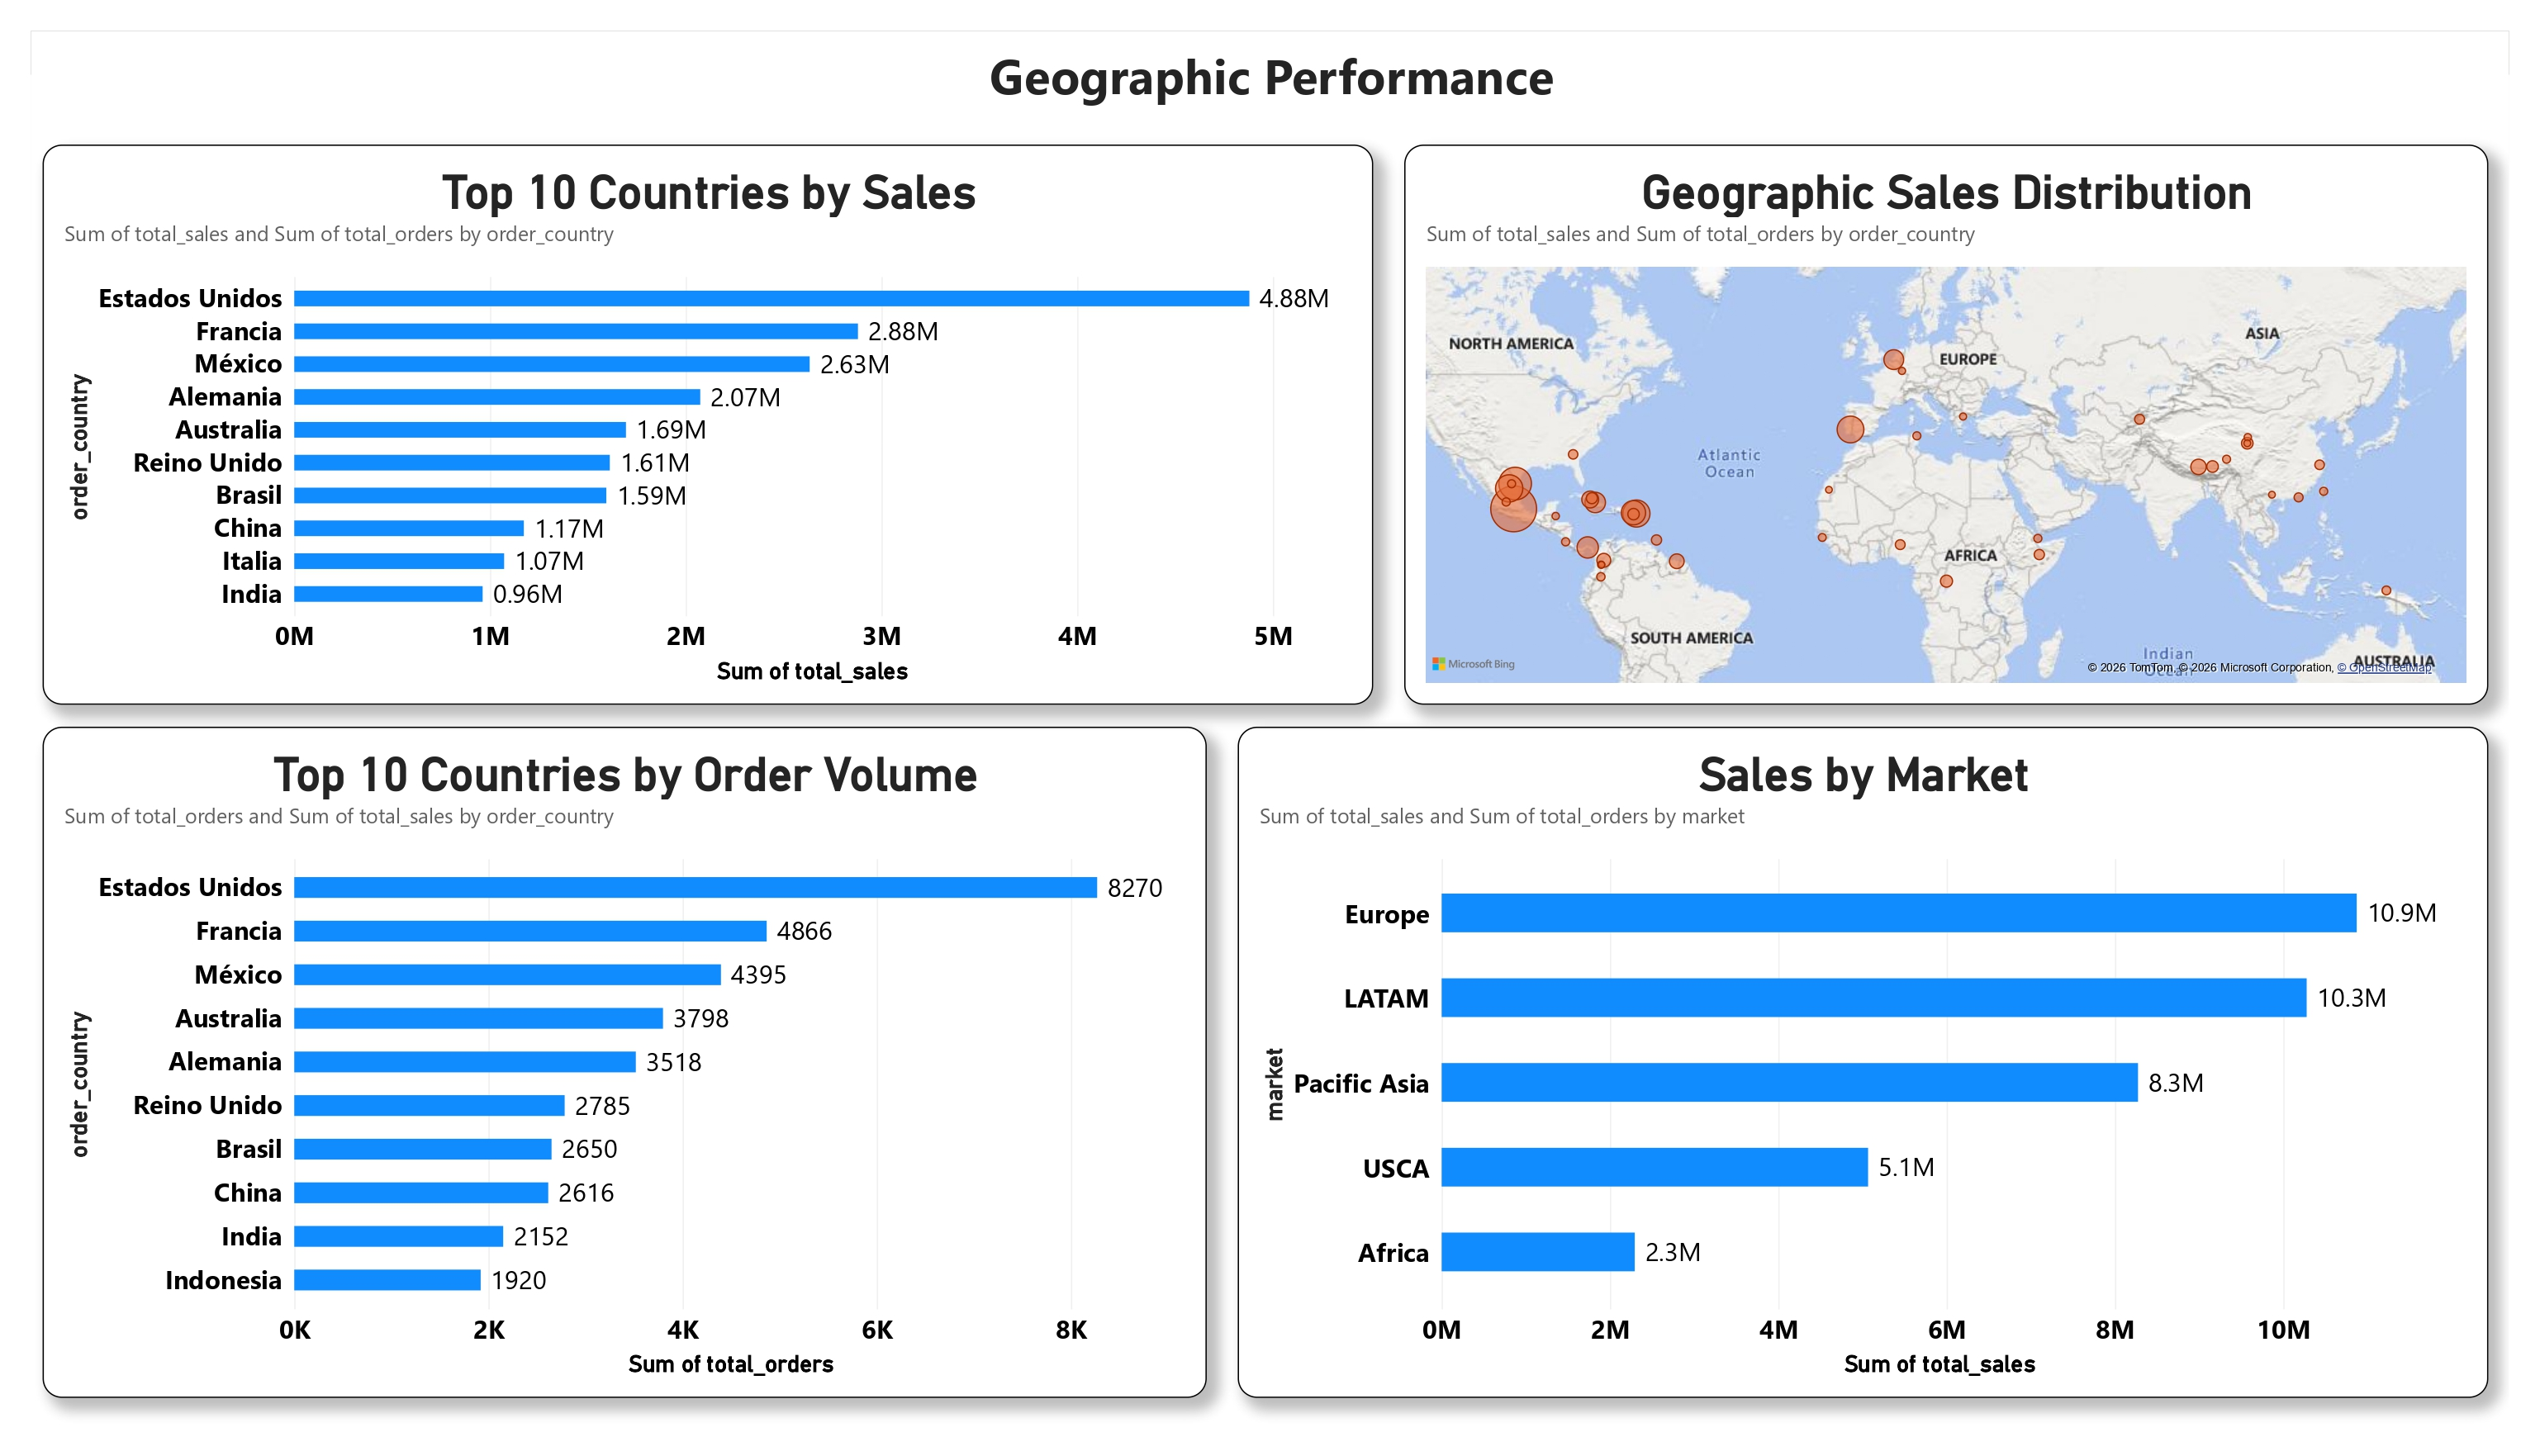

Layout of this report page (visuals, bound fields, positions):
{"tool":"powerbi","page":{"name":"Geographic Performance","canvas":[1920,1080],"ordinal":3},"visuals":[{"type":"textbox","box":[685.4,8.6,552.2,79.5],"z":0},{"type":"clusteredBarChart","title":"Sales by Market","fields":{"Category":["mart vw_geography_performance.market"],"Y":["Sum(mart vw_geography_performance.total_sales)"]},"box":[934.6,539.3,969,520],"z":1000},{"type":"map","title":"Geographic Sales Distribution","fields":{"Category":["mart vw_geography_performance.order_country"],"Size":["Sum(mart vw_geography_performance.total_sales)"]},"box":[1063.5,88.1,840.1,434],"z":2000},{"type":"clusteredBarChart","title":"Top 10 Countries by Sales","fields":{"Category":["mart vw_geography_performance.order_country"],"Y":["Sum(mart vw_geography_performance.total_sales)"]},"box":[8.6,88.1,1031.3,434],"z":3000},{"type":"clusteredBarChart","title":"Top 10 Countries by Order Volume","fields":{"Category":["mart vw_geography_performance.order_country"],"Y":["Sum(mart vw_geography_performance.total_orders)"]},"box":[8.6,539.3,902.4,520],"z":4000}]}

Visuals, with their boxes on the page's 1920x1080 design canvas (x1, y1, x2, y2). These are canvas units, not pixel positions in the 2540x1456 screenshot, which may show the page scaled, cropped or inside an application window:
textbox: 685 9 1238 88
"Sales by Market" clusteredBarChart: 935 539 1904 1059
"Geographic Sales Distribution" map: 1064 88 1904 522
"Top 10 Countries by Sales" clusteredBarChart: 9 88 1040 522
"Top 10 Countries by Order Volume" clusteredBarChart: 9 539 911 1059
